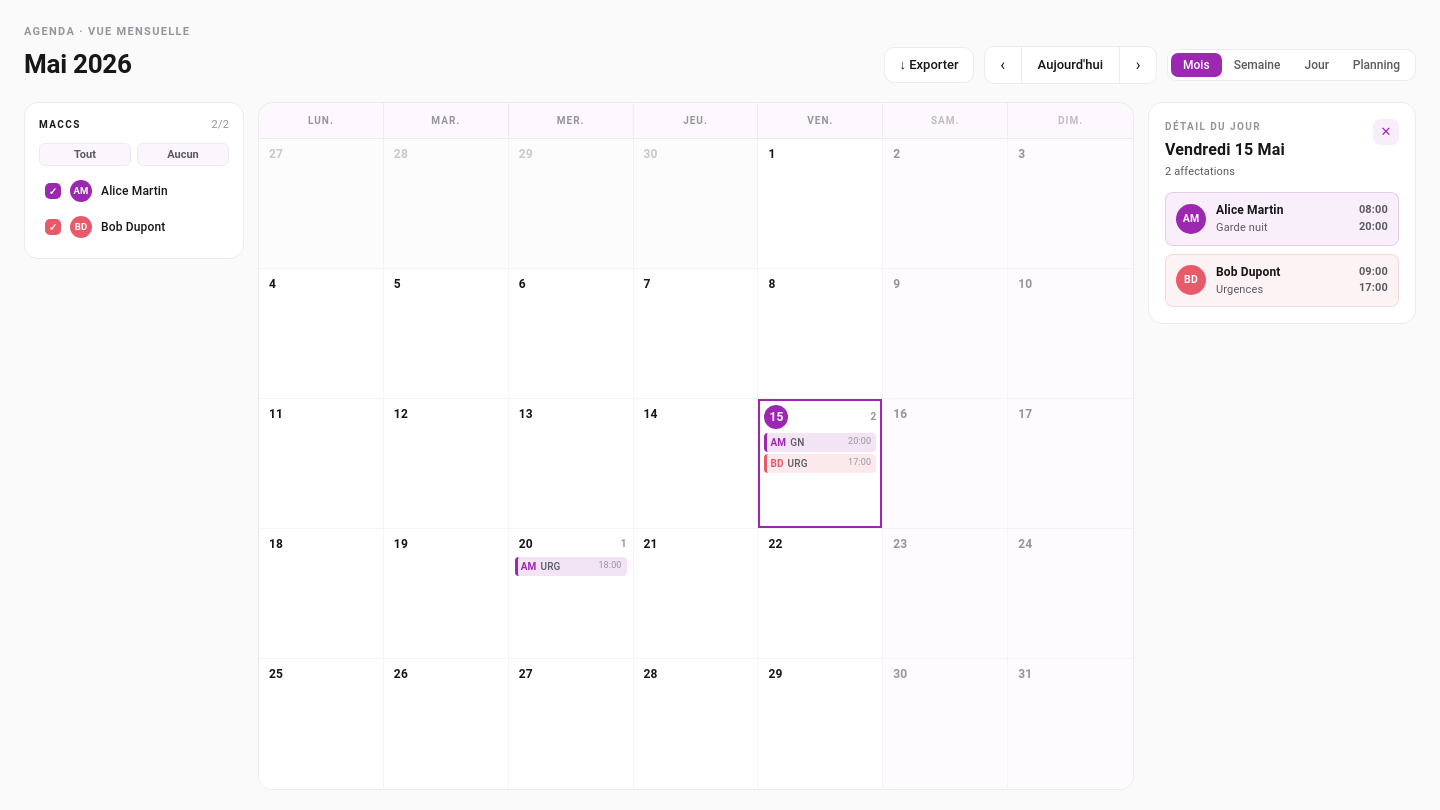
Test case: MonthCalendar — sidebar MACCs › 'Aucun' désactive tous les MACCs
Click the button "Aucun" at (183, 154), box x1=137 y1=143 x2=229 y2=166
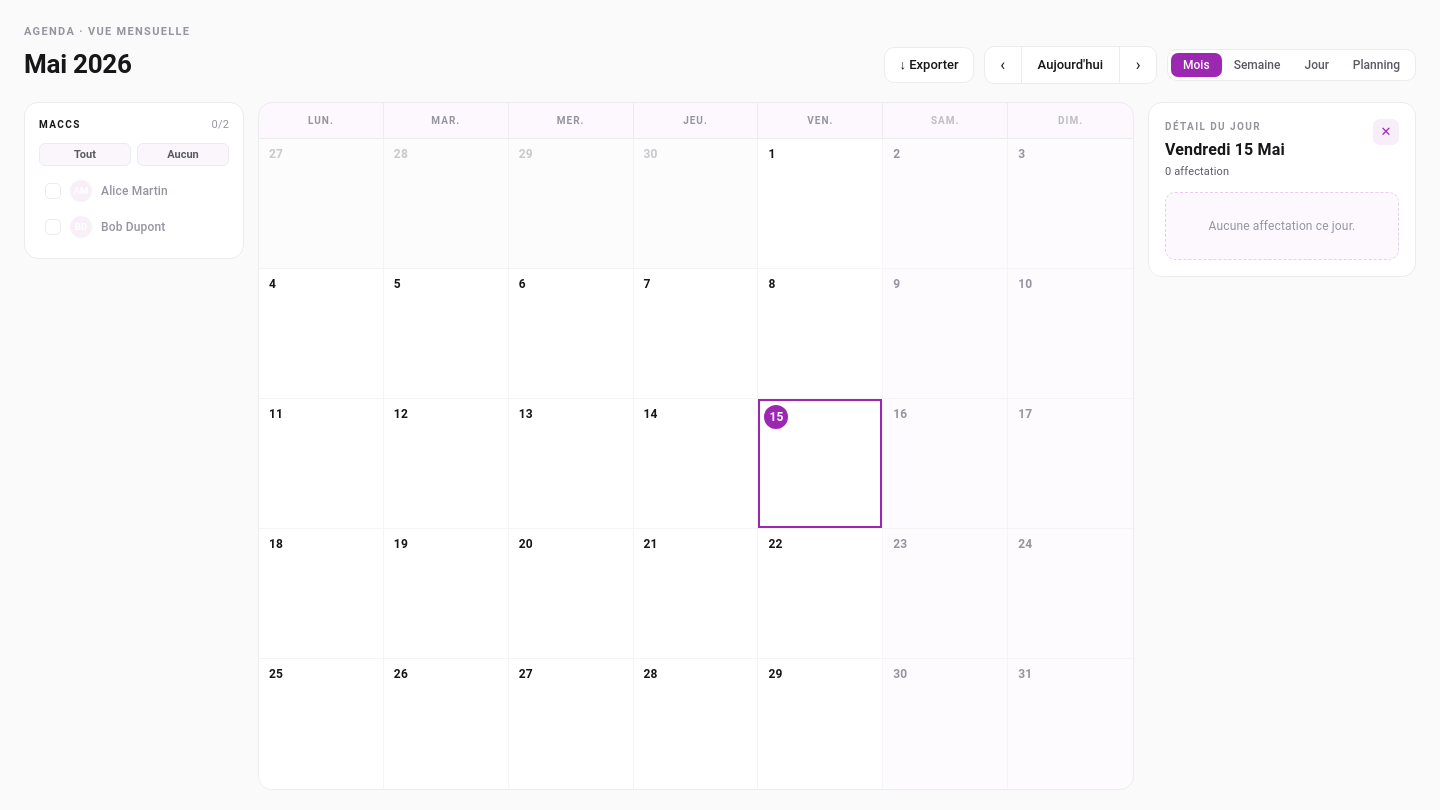
Now the text "0/2" is shown, box x1=212 y1=116 x2=229 y2=133
